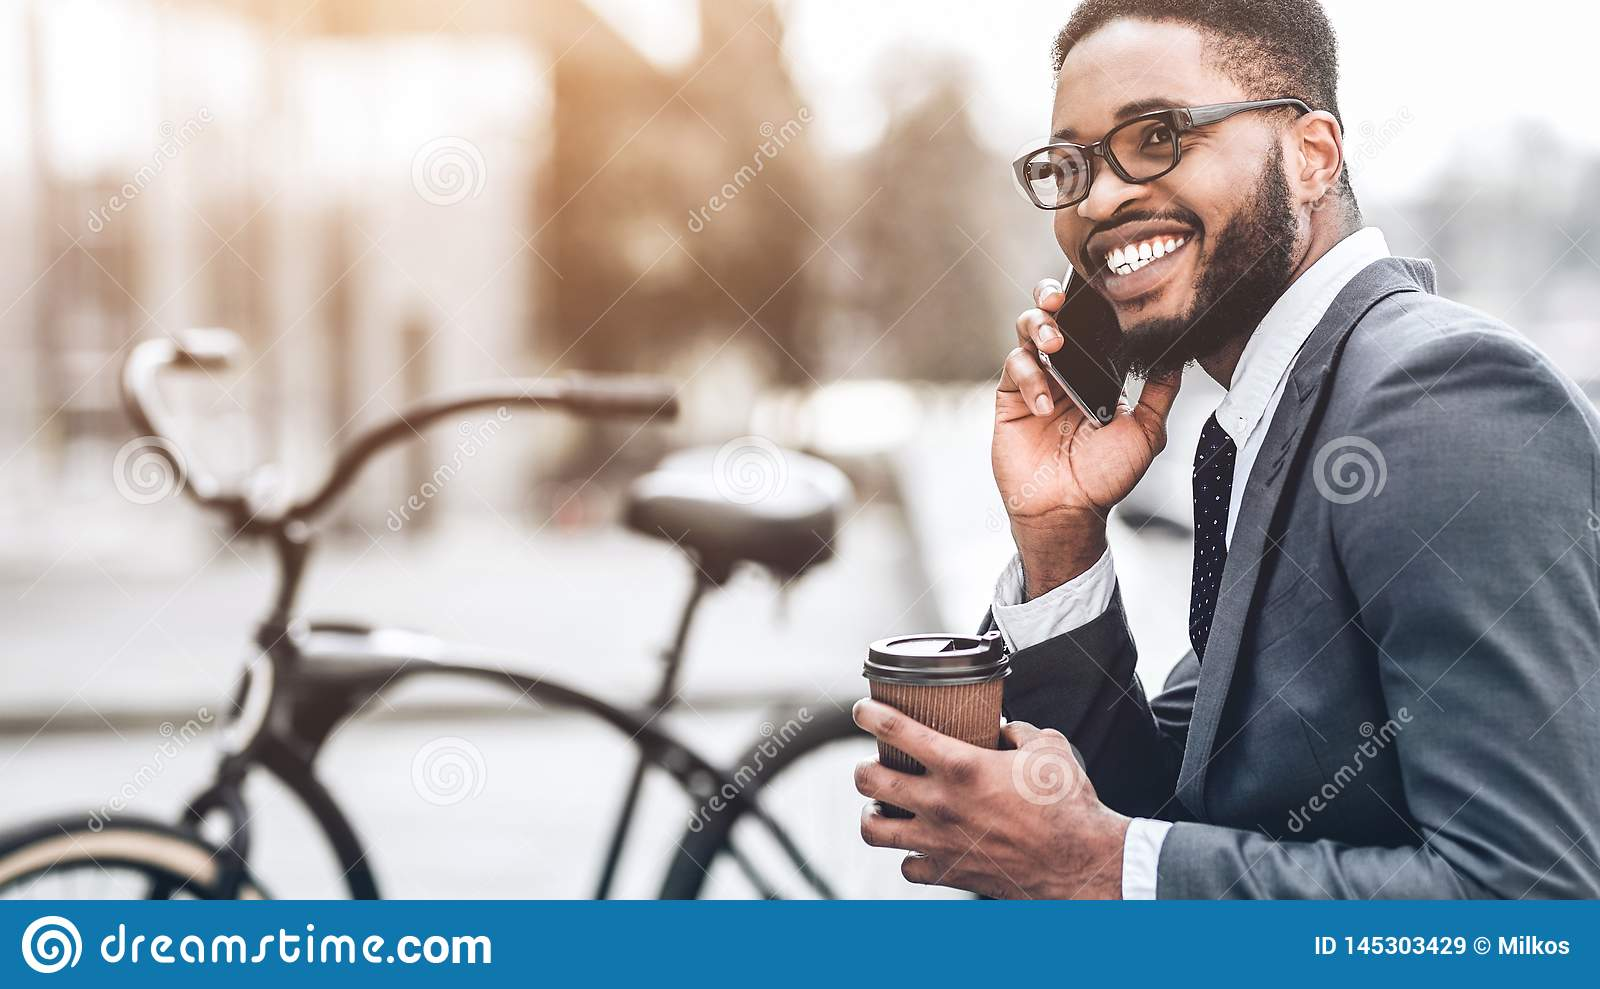phone: (1037, 252, 1127, 442)
talk: (987, 87, 1227, 565)
